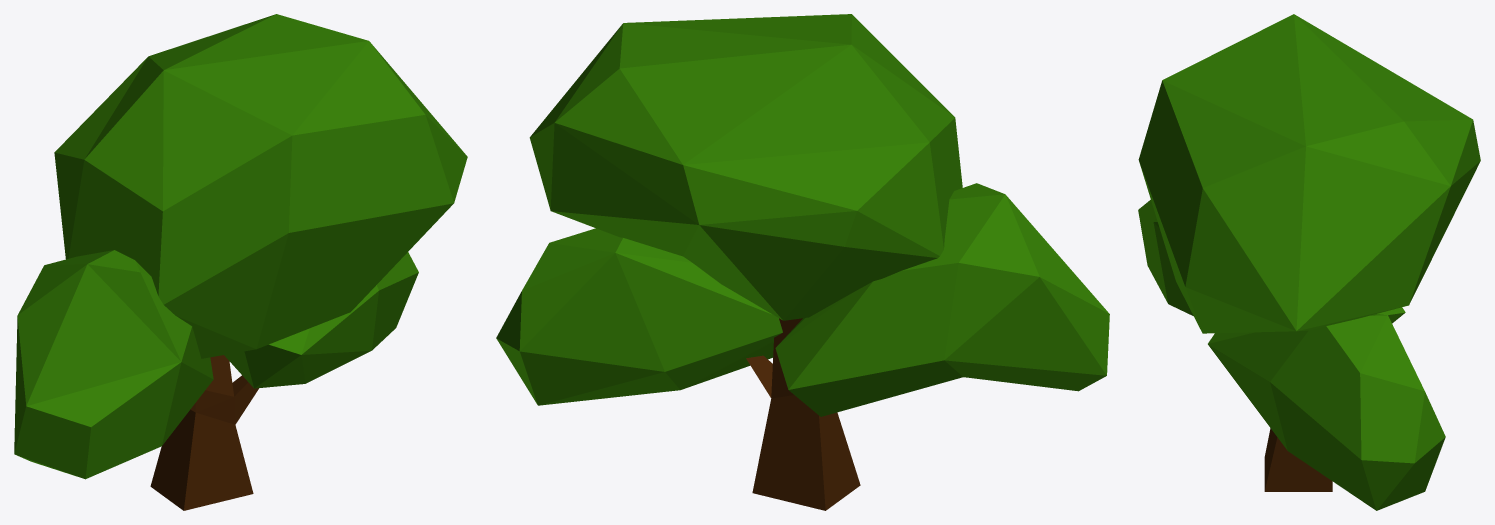
The model's file is U_Azuolas.fbx.
3 renders of one model, left to right at view 1: azimuth 30°, elevation 25°; view 2: azimuth 150°, elevation 25°; view 3: azimuth 270°, elevation 25°, orthographic. The views are drawn at different scales.
Parts seen in each view (by area): view 1: Ąžuolas; view 2: Ąžuolas; view 3: Ąžuolas.
Boxes of the visible parts, x1,y1,x2,y2 form: Ąžuolas: (14, 14, 467, 510); Ąžuolas: (496, 14, 1109, 510); Ąžuolas: (1138, 14, 1480, 510).
Size of the model in its own units: 1.31 by 1.08 by 0.7623.
